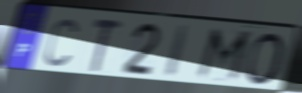2: (120, 21, 165, 78)
C: (42, 16, 79, 68)
I: (163, 24, 193, 80)
M: (193, 26, 255, 86)
O: (242, 31, 286, 87)
T: (90, 17, 125, 74)
